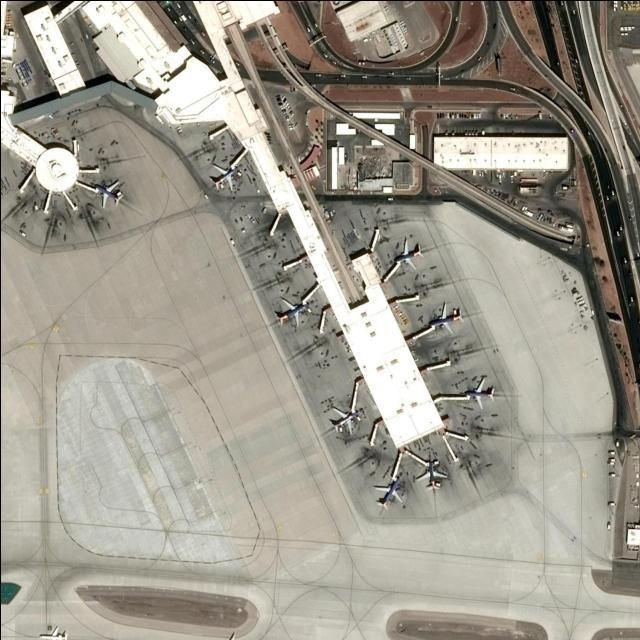Aircraft: (462, 376, 496, 408), (428, 301, 462, 333), (274, 296, 307, 328), (371, 474, 402, 508), (415, 460, 447, 489), (393, 238, 423, 268), (93, 177, 123, 207), (328, 404, 357, 434), (208, 161, 236, 190)
